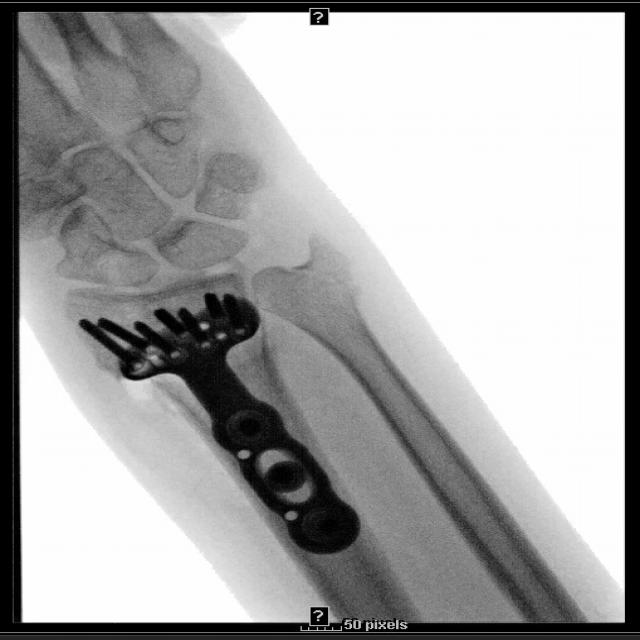x-ray: (72, 288, 380, 568)
